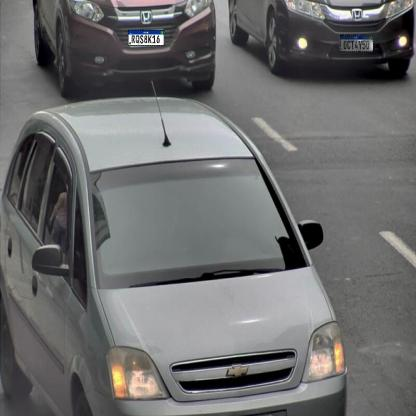PlacaM: (128, 30, 164, 46), (340, 35, 373, 52)
